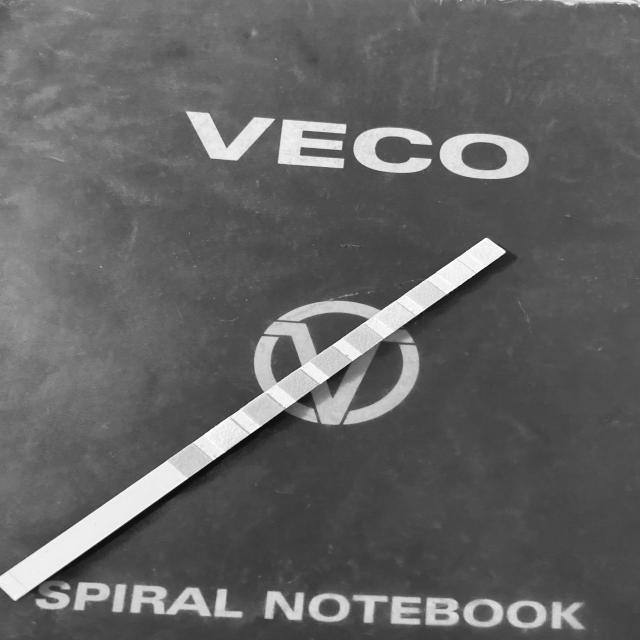Bilirubin: (212, 428, 242, 440)
Blood: (319, 353, 342, 370)
Glucose: (178, 452, 202, 468)
Ketone: (250, 401, 275, 416)
Leukocytes: (475, 245, 497, 258)
Nitrite: (446, 265, 466, 282)
Protein: (384, 308, 406, 324)
SpGravity: (286, 377, 309, 392)
Urobilinogen: (413, 288, 438, 301)
background: (0, 0, 640, 640)
pH: (353, 330, 373, 347)
strip: (0, 238, 508, 601)
